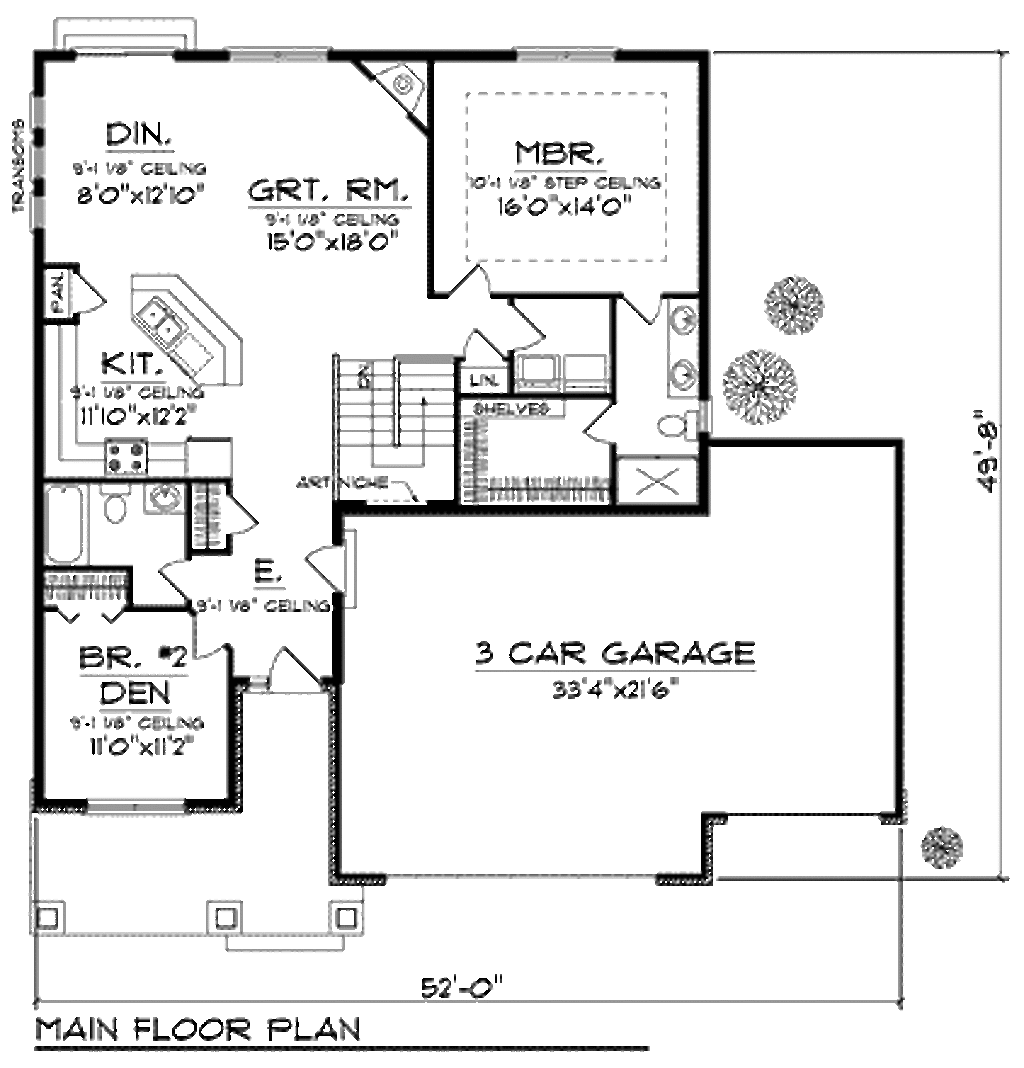door: (304, 533, 360, 604), (185, 609, 234, 674), (264, 649, 324, 696), (444, 249, 497, 298), (215, 491, 264, 541), (502, 303, 549, 353), (619, 286, 665, 329), (152, 553, 194, 598), (584, 399, 619, 449), (457, 329, 507, 364), (72, 269, 102, 314)
kitchen_bar: (130, 253, 245, 401)
large_sink: (657, 399, 710, 444), (99, 484, 130, 528)
small_sink: (665, 289, 700, 391), (142, 483, 192, 521)
stairs: (334, 353, 457, 504)
tub: (40, 488, 87, 569)
twin_sink: (132, 288, 194, 354)
window: (20, 91, 55, 236), (85, 796, 187, 826), (227, 44, 332, 66), (512, 48, 619, 66)
